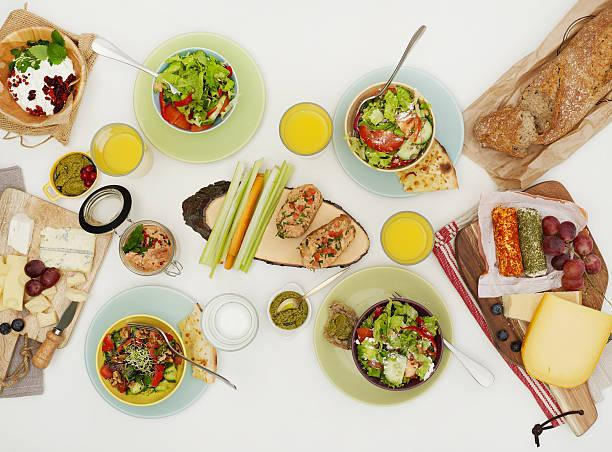Braised Crucian Carp: (313, 264, 451, 406), (330, 65, 462, 199), (134, 32, 265, 165), (83, 285, 210, 418), (0, 26, 85, 126)
